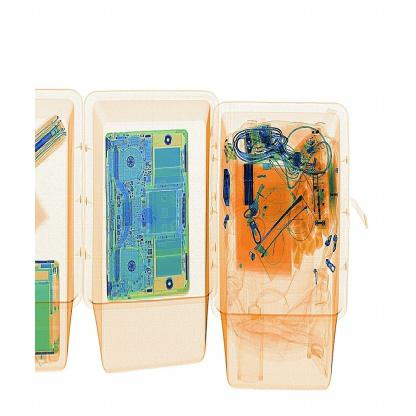scissors: (242, 157, 264, 216)
